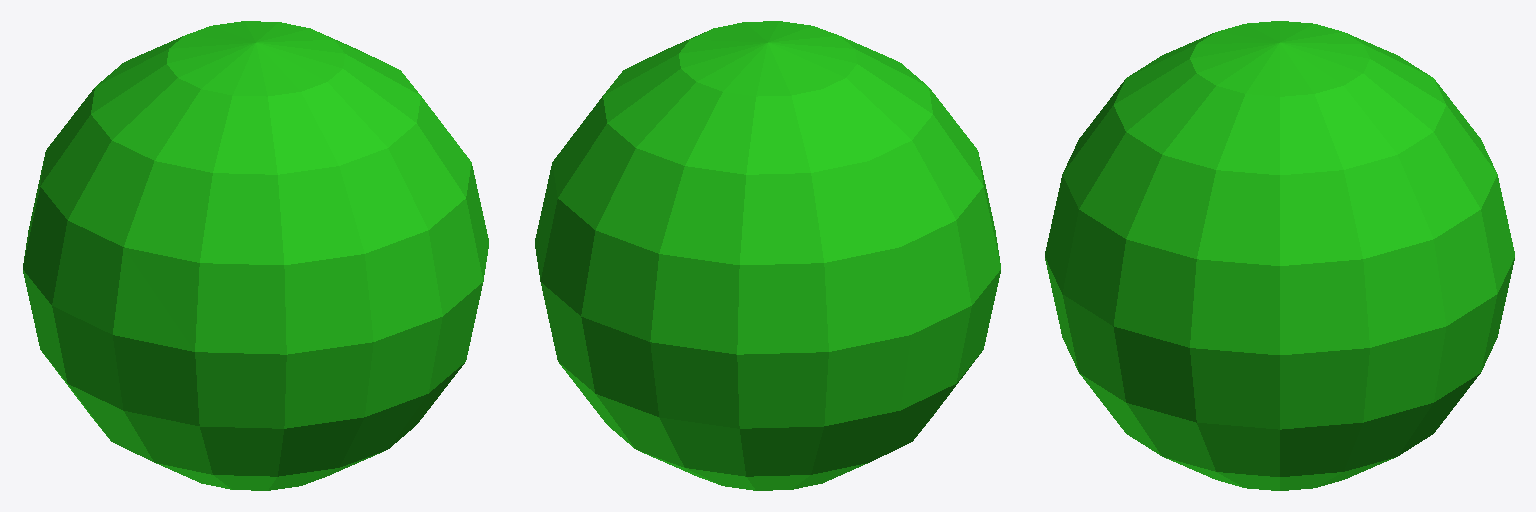
Rendered from bounding_sphere.obj.
The picture shows the model from 3 angles: view 1: azimuth 30°, elevation 25°; view 2: azimuth 150°, elevation 25°; view 3: azimuth 270°, elevation 25°; orthographic projection.
Visible parts, largest first — view 1: Sphere; view 2: Sphere; view 3: Sphere.
Boxes of the visible parts, x1=… form: Sphere: x1=23, y1=21, x2=488, y2=490; Sphere: x1=535, y1=21, x2=1000, y2=490; Sphere: x1=1045, y1=21, x2=1514, y2=490.
Bounding box in the file's own units: 2 × 2 × 2.